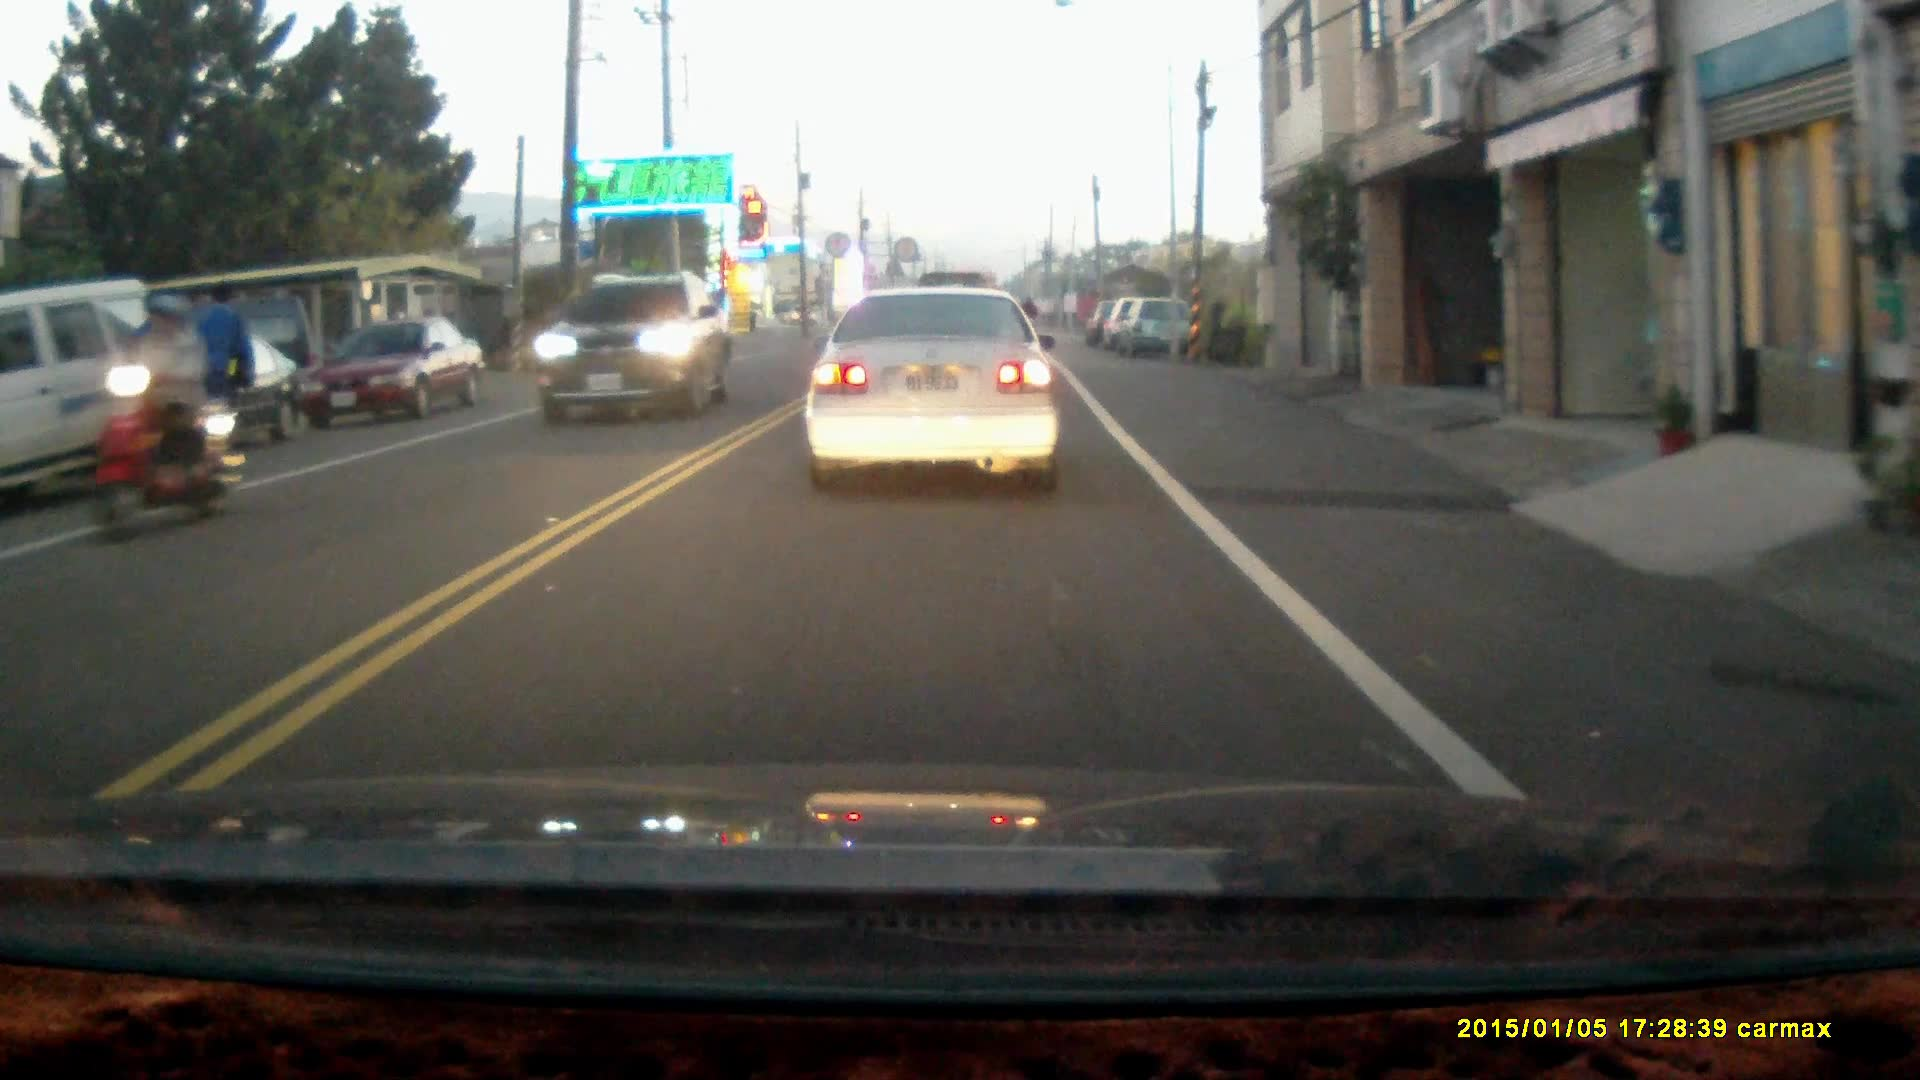pedestrian: (185, 281, 255, 481)
rider: (82, 294, 242, 547)
vehicle: (802, 284, 1064, 497), (1, 275, 190, 520), (47, 317, 304, 456), (534, 268, 732, 428), (309, 314, 491, 430), (1116, 294, 1199, 359)
